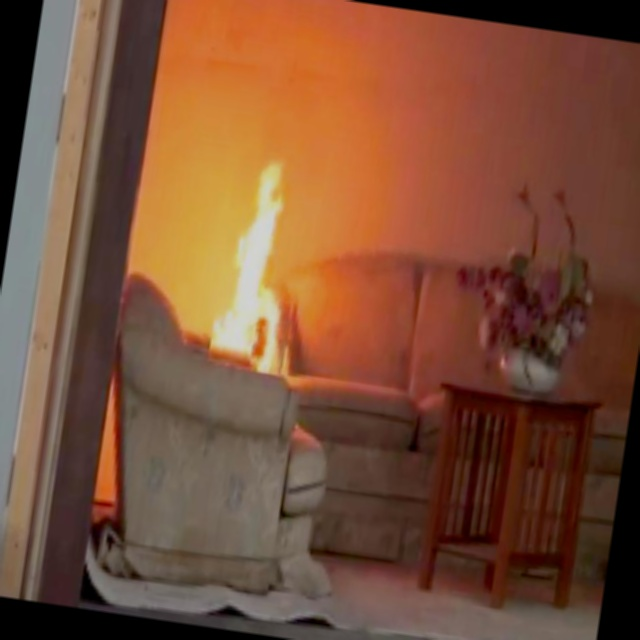fire: (187, 155, 317, 361)
